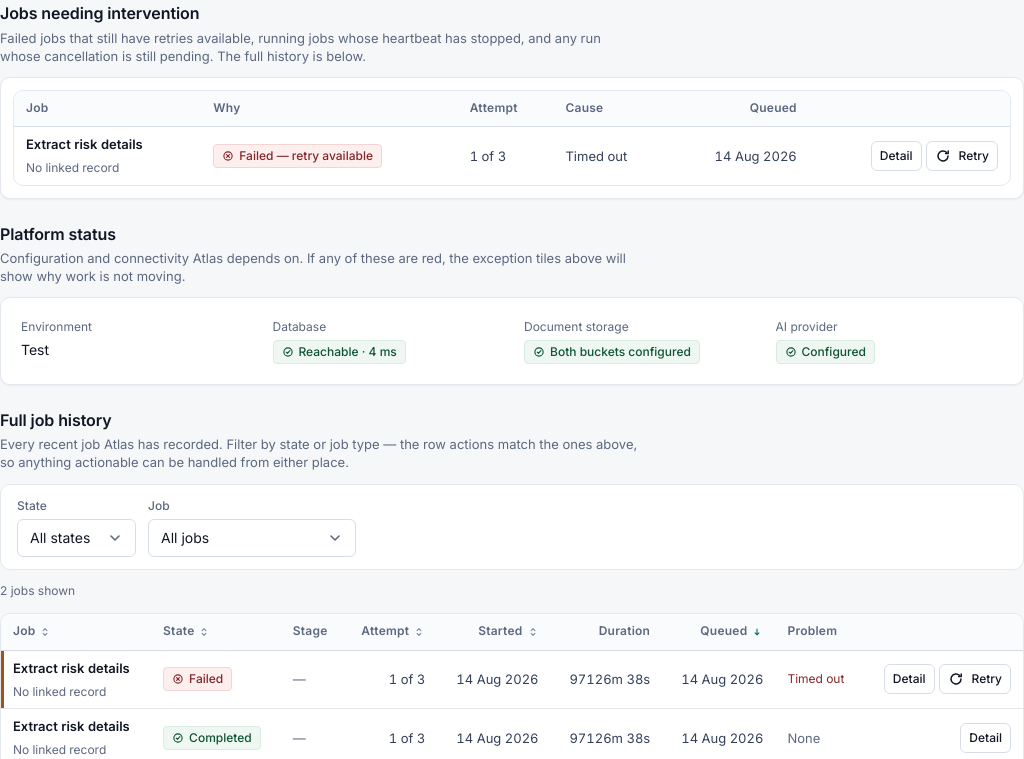
Test: Processing operations workbench › filters the full job history by state and clears via the chip button
(page scrolled)
Expected: the heading "Full job history" is shown, [0,410,112,430]
Select "Failed" in the dropdown labelled "State": {"x": 76, "y": 538} [17,519,136,557]
(page scrolled)
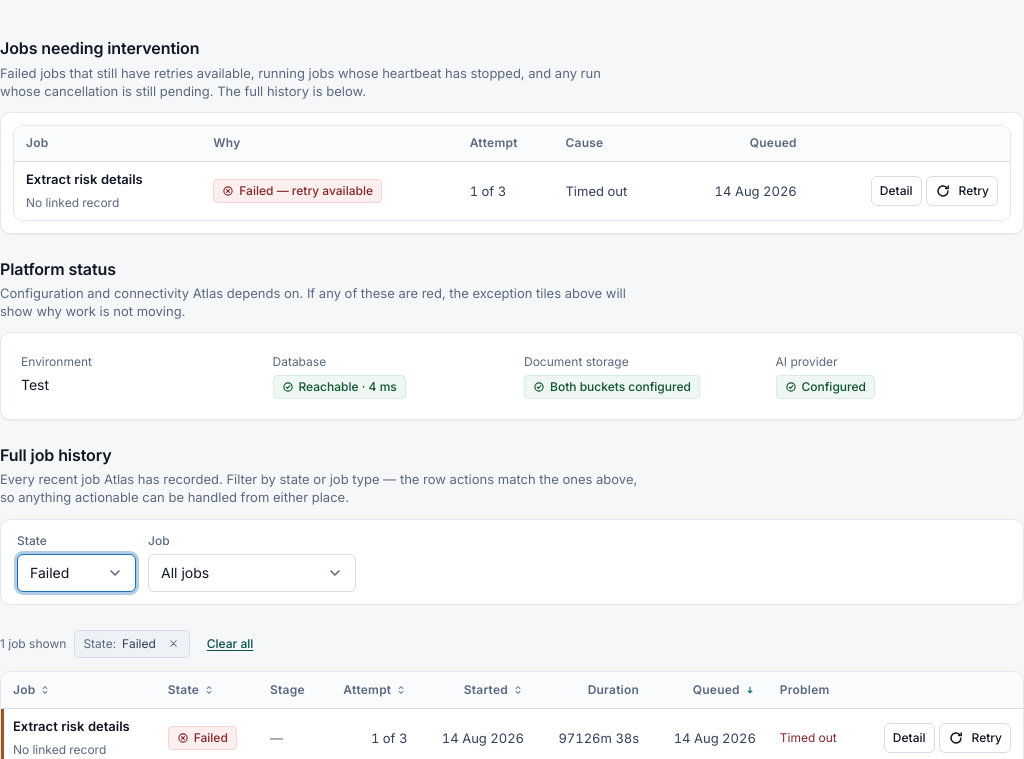
Now the text "1 job shown" is shown, box [0,635,66,653]
Clear via the chip.
Click the button "Clear all": {"x": 230, "y": 644} [198,629,262,659]
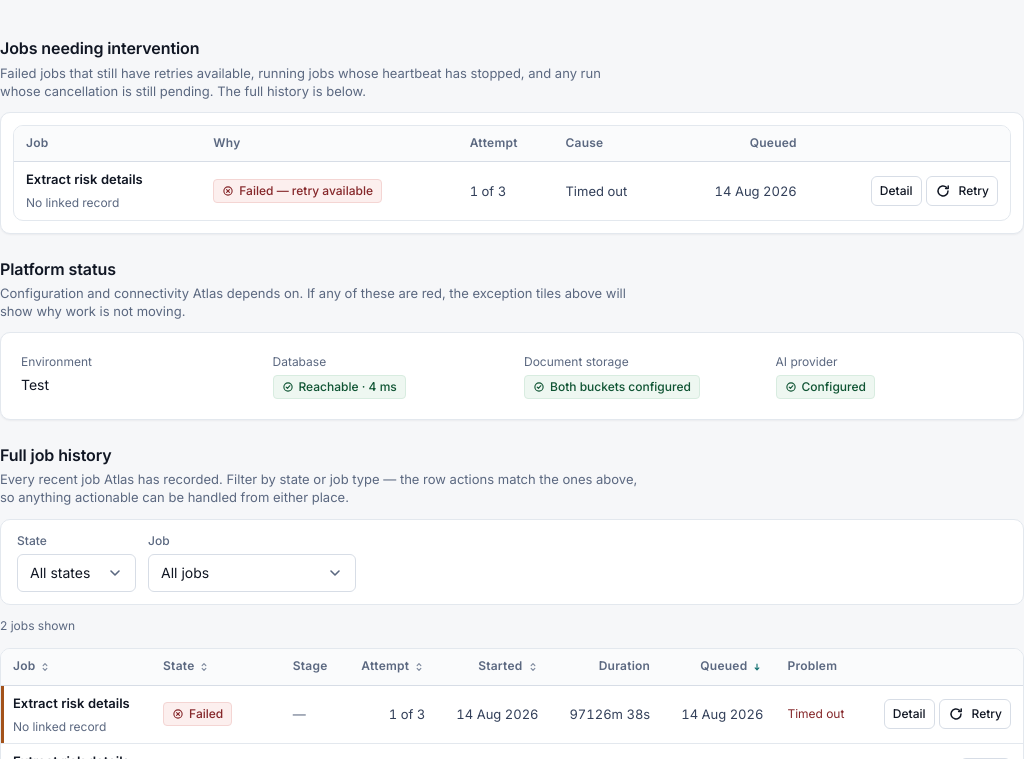
Now the text "2 jobs shown" is shown, box [0,618,75,633]
